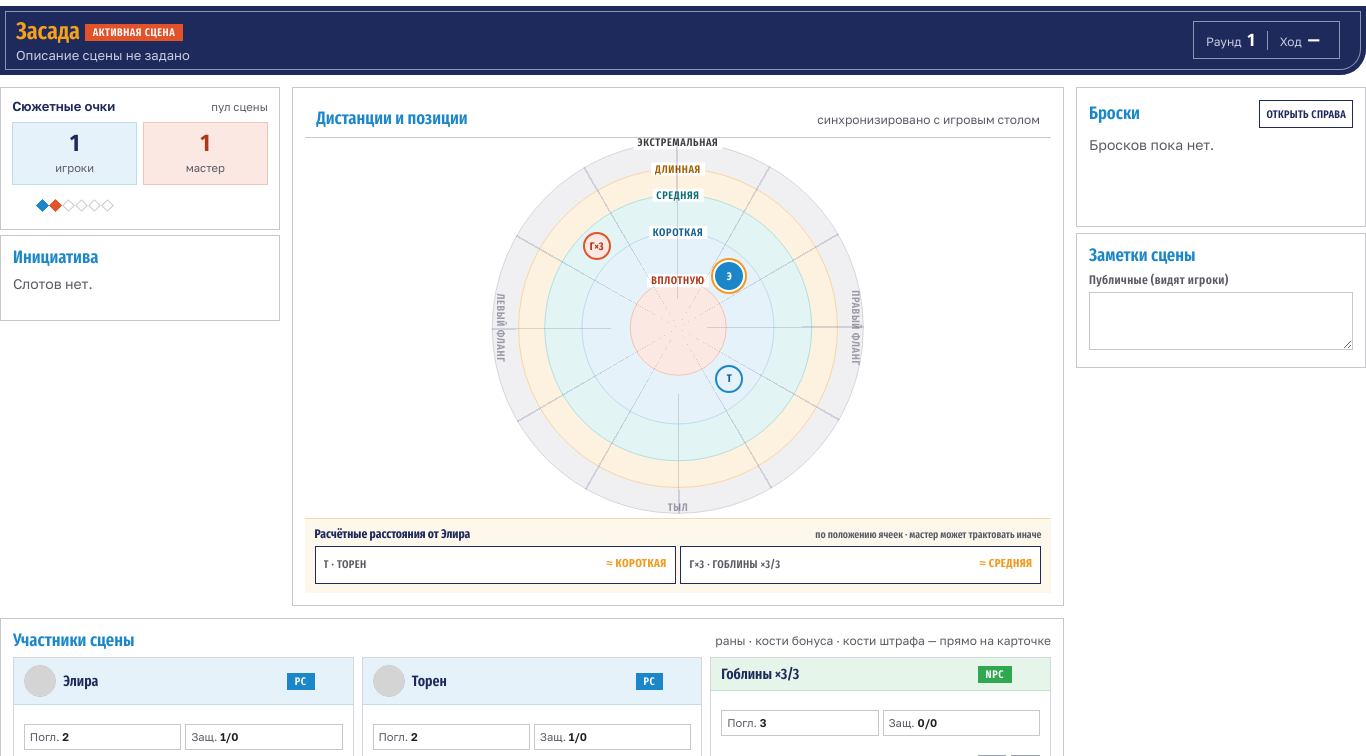
Test: GameTableTab — статблок и броски NPC › разрешает игроку перемещать только своего персонажа
Press the mouse on the button named "Выбрать Торен для расчёта расстояний" at (729, 379), box [715,365,743,393]
Press the mouse on the button named "Выбрать Гоблины ×3/3 для расчёта расстояний" at (597, 246), box [583,232,611,260]
Press the mouse on the button named "Выбрать Элира для расчёта расстояний" at (729, 276), box [715,262,743,290]
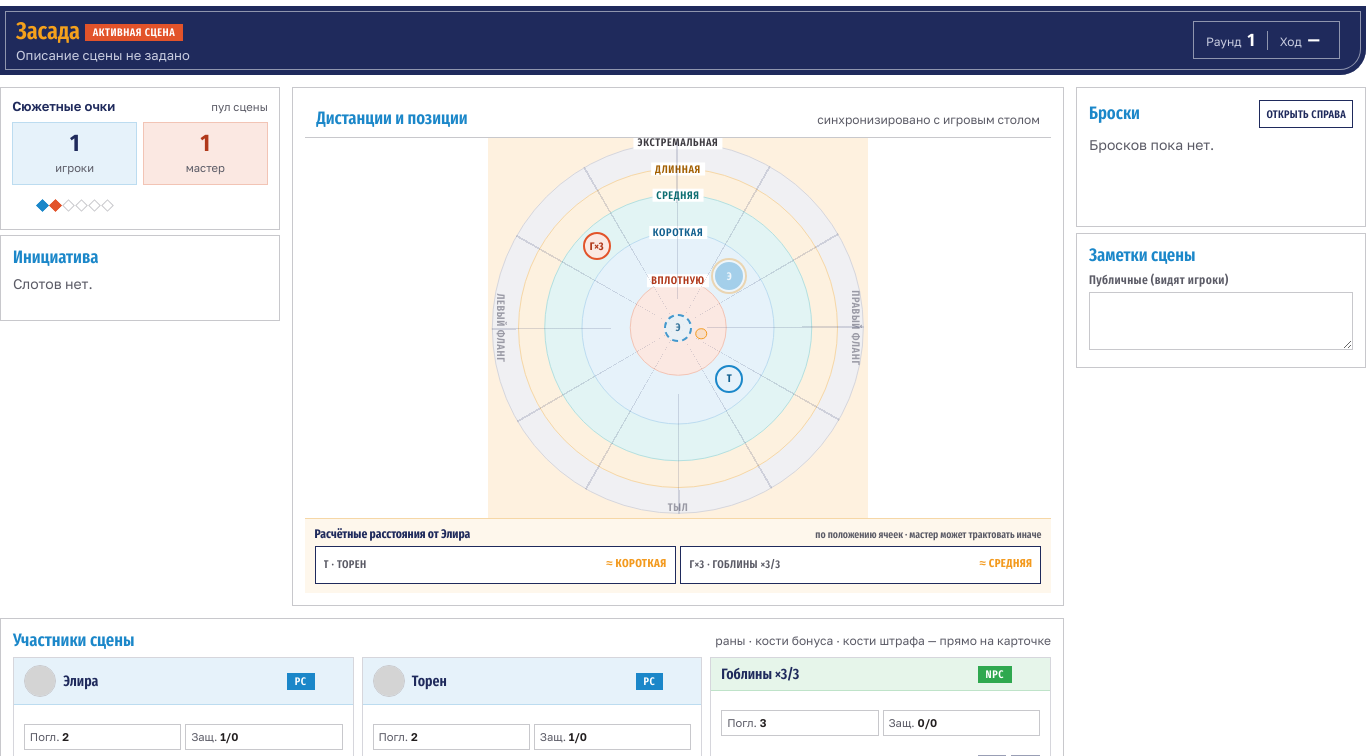
Expected: the element with class "drag-preview" is shown, [664,314,692,342]
